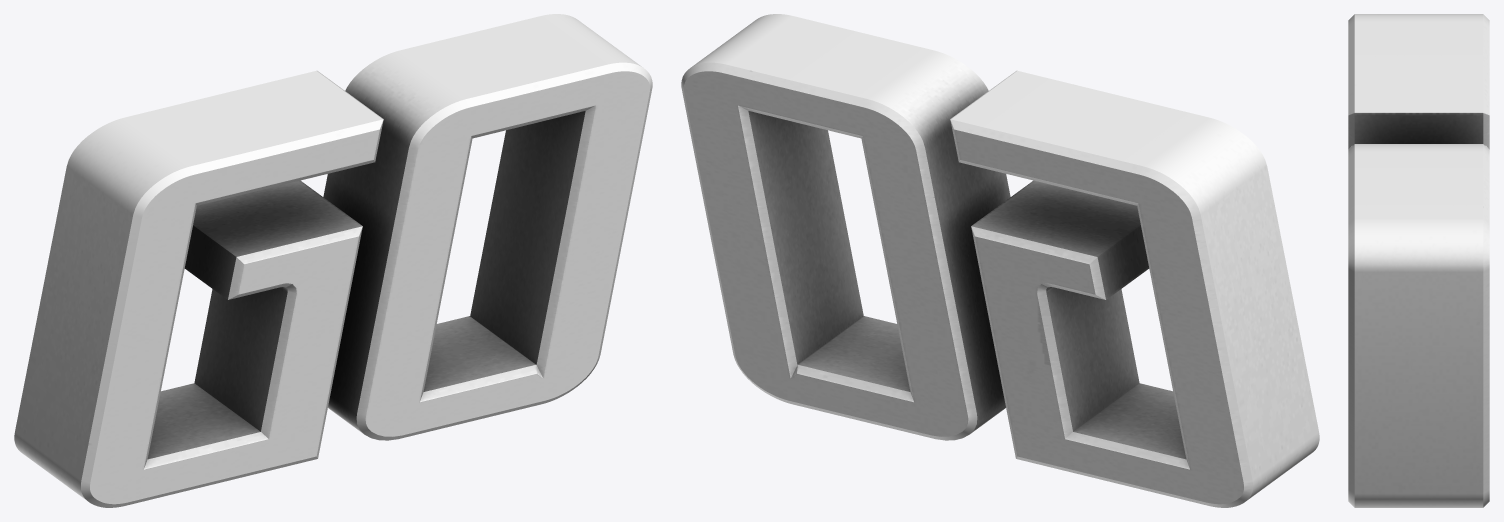
The model's file is label_go.fbx.
The picture shows the model from 3 angles, left to right: view 1: azimuth 30°, elevation 25°; view 2: azimuth 150°, elevation 25°; view 3: azimuth 270°, elevation 25°; orthographic projection. The views are drawn at different scales.
Parts seen in each view (by area): view 1: label_go__1_-_Dasd_LOD1; view 2: label_go__1_-_Dasd_LOD1; view 3: label_go__1_-_Dasd_LOD1.
Part boxes in pixels (x1,y1,x2,y2): label_go__1_-_Dasd_LOD1: (14, 14, 652, 507); label_go__1_-_Dasd_LOD1: (681, 14, 1319, 507); label_go__1_-_Dasd_LOD1: (1348, 14, 1489, 507).
Bounding box in the file's own units: 9.93 × 2.2 × 5.37.
